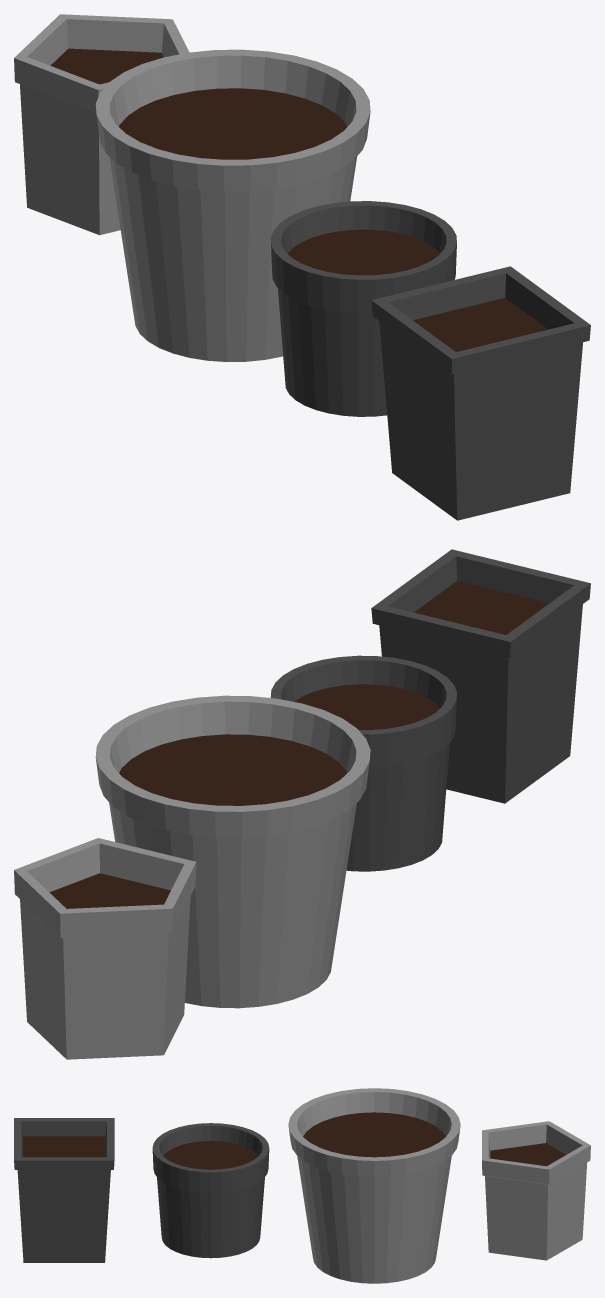
Rendered from BPW_PlantPots.fbx.
The picture shows the model from 3 angles, top to bottom: view 1: azimuth 30°, elevation 25°; view 2: azimuth 150°, elevation 25°; view 3: azimuth 270°, elevation 25°; orthographic projection. The views are drawn at different scales.
Parts seen in each view (by area): view 1: Cylinder.001, Cube, Cylinder, Cylinder.002, Cylinder.003, Cylinder.004, Cube.001, Cylinder.005; view 2: Cylinder.001, Cube, Cylinder.002, Cylinder, Cylinder.003, Cylinder.004, Cube.001, Cylinder.005; view 3: Cylinder.001, Cube, Cylinder.002, Cylinder, Cylinder.003, Cylinder.004, Cube.001, Cylinder.005.
Boxes of the visible parts, <box> form: Cylinder.001: <box>95,49,370,361</box>; Cube: <box>371,266,590,520</box>; Cylinder: <box>270,201,456,416</box>; Cylinder.002: <box>14,14,189,235</box>; Cylinder.003: <box>119,88,346,159</box>; Cylinder.004: <box>288,229,439,275</box>; Cube.001: <box>413,298,547,351</box>; Cylinder.005: <box>50,48,163,84</box>; Cylinder.001: <box>95,695,370,1008</box>; Cube: <box>371,549,590,803</box>; Cylinder.002: <box>14,838,196,1059</box>; Cylinder: <box>270,655,456,871</box>; Cylinder.003: <box>119,734,347,805</box>; Cylinder.004: <box>294,684,439,729</box>; Cube.001: <box>414,581,548,634</box>; Cylinder.005: <box>49,873,170,908</box>; Cylinder.001: <box>288,1088,460,1283</box>; Cube: <box>14,1118,114,1262</box>; Cylinder.002: <box>482,1121,590,1260</box>; Cylinder: <box>152,1123,269,1258</box>; Cylinder.003: <box>303,1112,445,1157</box>; Cylinder.004: <box>163,1141,258,1169</box>; Cube.001: <box>23,1136,105,1157</box>; Cylinder.005: <box>490,1143,565,1166</box>.
Size of the model in its own units: 674 by 575 by 2257.
